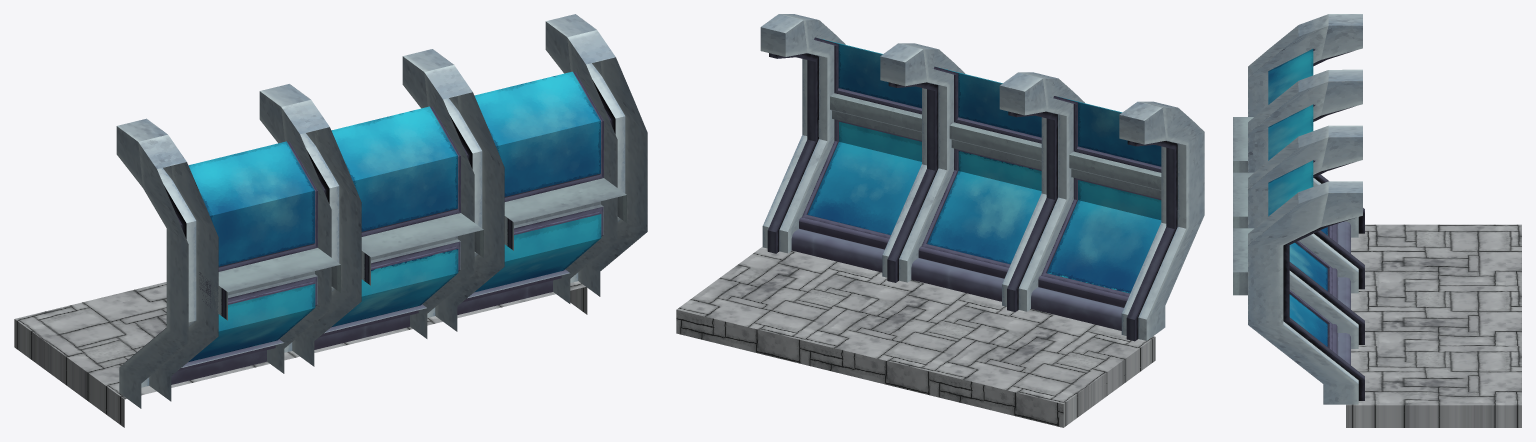
The model's file is straight_hallway_side1.fbx.
The picture shows the model from 3 angles, left to right: view 1: azimuth 30°, elevation 25°; view 2: azimuth 150°, elevation 25°; view 3: azimuth 270°, elevation 25°; orthographic projection. The views are drawn at different scales.
Visible parts, largest first — view 1: StarightHWWallArch1, StarightHWWindow2, StarightHWWindow1, HallwayFloor1, StarightHWWindowFrame, StarightHWWallArch2.002, StarightHWWallArch2, StarightHWWallArch2.001; view 2: HallwayFloor1, StarightHWWallArch1, StarightHWWindow1, StarightHWWindow2, StarightHWWindowFrame, StarightHWWallArch2.002, StarightHWWallArch2, StarightHWWallArch2.001; view 3: HallwayFloor1, StarightHWWallArch1, StarightHWWindow2, StarightHWWindowFrame, StarightHWWindow1, StarightHWWallArch2.001, StarightHWWallArch2.002, StarightHWWallArch2.
Boxes of the visible parts, x1=… form: StarightHWWallArch1: x1=116, y1=14, x2=647, y2=408; StarightHWWindow2: x1=188, y1=71, x2=603, y2=271; StarightHWWindow1: x1=188, y1=206, x2=603, y2=362; HallwayFloor1: x1=14, y1=281, x2=587, y2=427; StarightHWWindowFrame: x1=199, y1=178, x2=626, y2=320; StarightHWWallArch2.002: x1=457, y1=269, x2=569, y2=314; StarightHWWallArch2: x1=171, y1=339, x2=283, y2=384; StarightHWWallArch2.001: x1=314, y1=304, x2=426, y2=349; HallwayFloor1: x1=676, y1=247, x2=1155, y2=427; StarightHWWallArch1: x1=760, y1=14, x2=1204, y2=341; StarightHWWindow1: x1=801, y1=119, x2=1161, y2=296; StarightHWWindow2: x1=814, y1=37, x2=1161, y2=172; StarightHWWindowFrame: x1=830, y1=93, x2=1161, y2=198; StarightHWWallArch2.002: x1=791, y1=217, x2=889, y2=272; StarightHWWallArch2: x1=1031, y1=276, x2=1128, y2=330; StarightHWWallArch2.001: x1=911, y1=246, x2=1008, y2=301; HallwayFloor1: x1=1346, y1=224, x2=1521, y2=427; StarightHWWallArch1: x1=1248, y1=14, x2=1364, y2=404; StarightHWWindow2: x1=1268, y1=48, x2=1315, y2=216; StarightHWWindowFrame: x1=1233, y1=117, x2=1253, y2=295; StarightHWWindow1: x1=1289, y1=225, x2=1332, y2=350; StarightHWWallArch2.001: x1=1332, y1=268, x2=1350, y2=309; StarightHWWallArch2.002: x1=1332, y1=324, x2=1350, y2=364; StarightHWWallArch2: x1=1332, y1=221, x2=1350, y2=253.
Size of the model in its own units: 8.5 by 5.75 by 5.15.
Materials: 3 (3 with a texture image).
